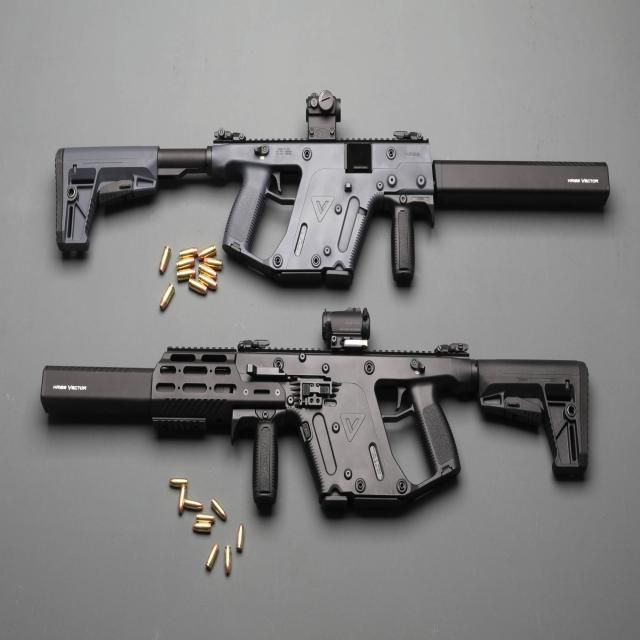SMG: (41, 314, 590, 517), (55, 111, 588, 289)
